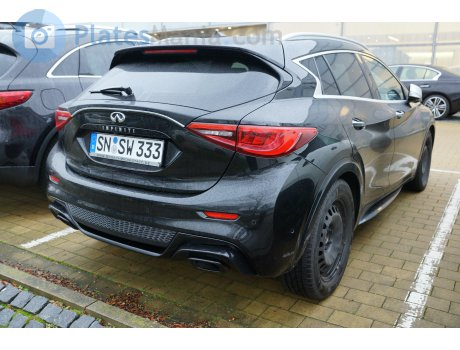License Plates: (91, 133, 160, 163)
